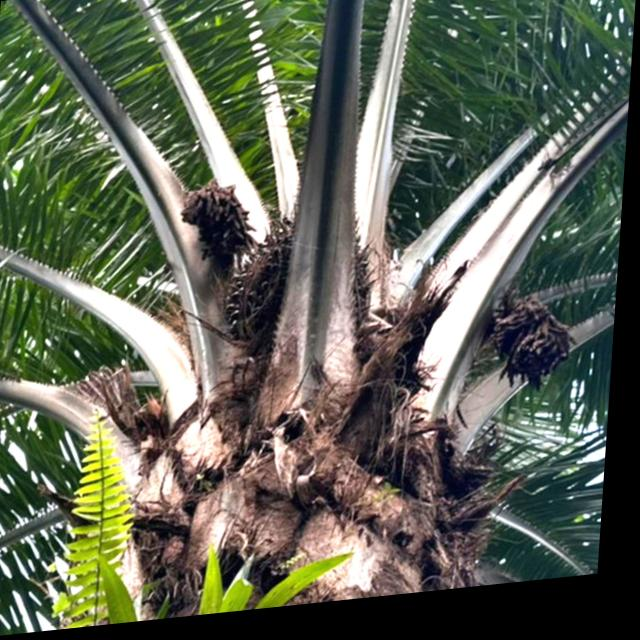almost: (219, 214, 379, 376)
